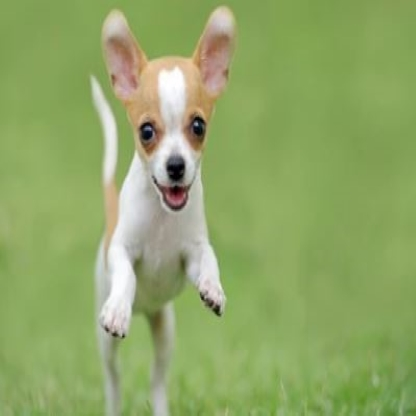chihuahua: (83, 3, 241, 416)
